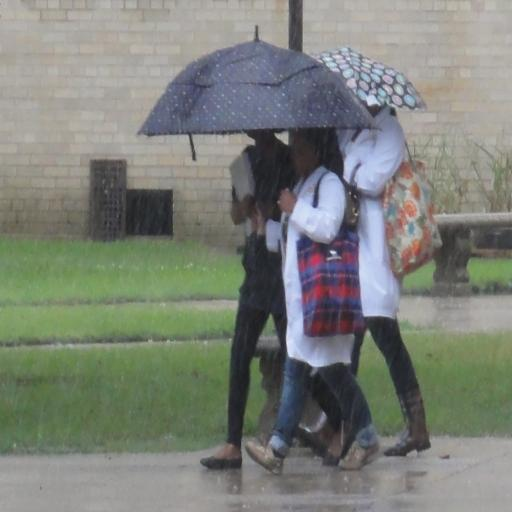Person: (340, 112, 450, 418), (274, 163, 370, 430), (202, 150, 284, 425)
boots: (359, 342, 445, 414), (329, 365, 387, 425), (300, 364, 350, 427), (236, 380, 294, 426), (188, 387, 250, 426)
none: (319, 130, 434, 322), (271, 179, 383, 348), (208, 163, 316, 338)
